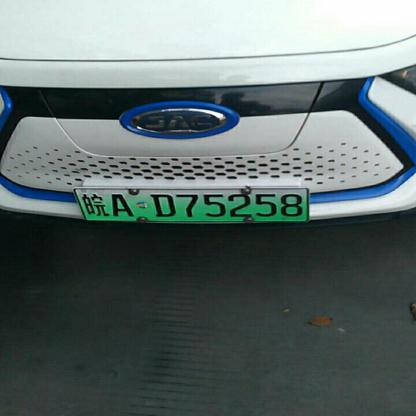lp: (75, 188, 308, 222)
